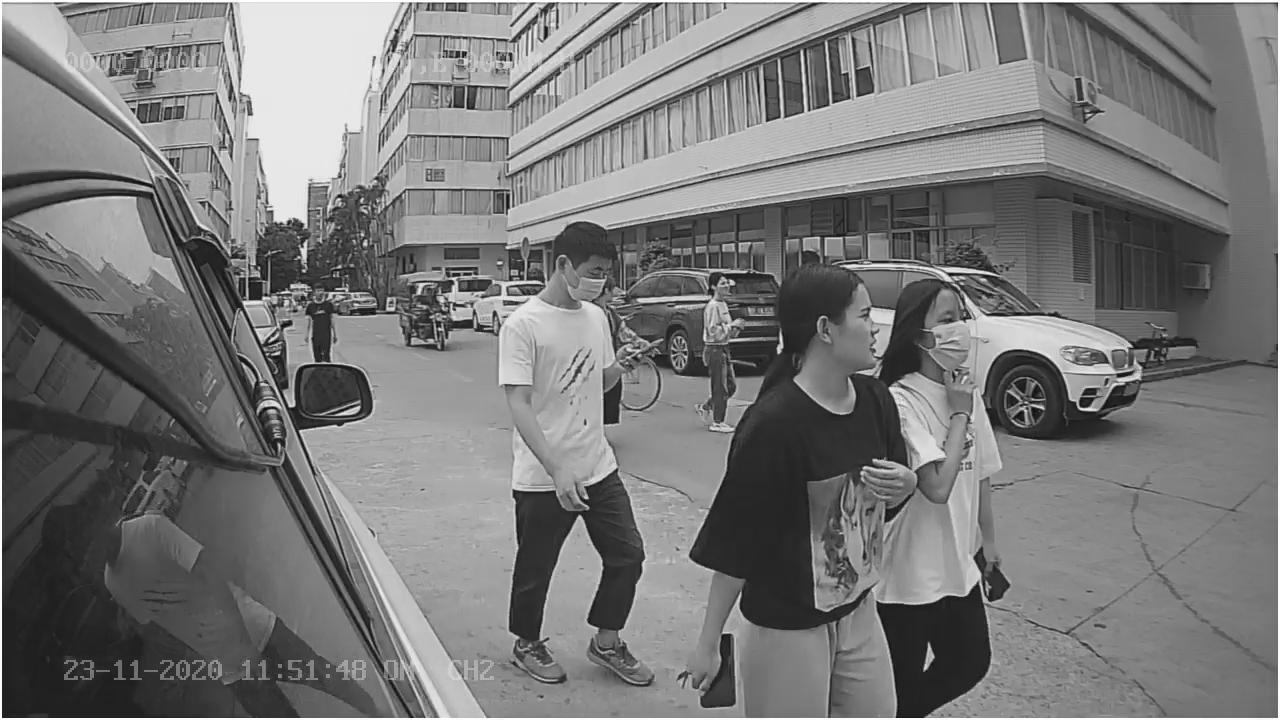person: (496, 212, 663, 695), (687, 263, 746, 431)
